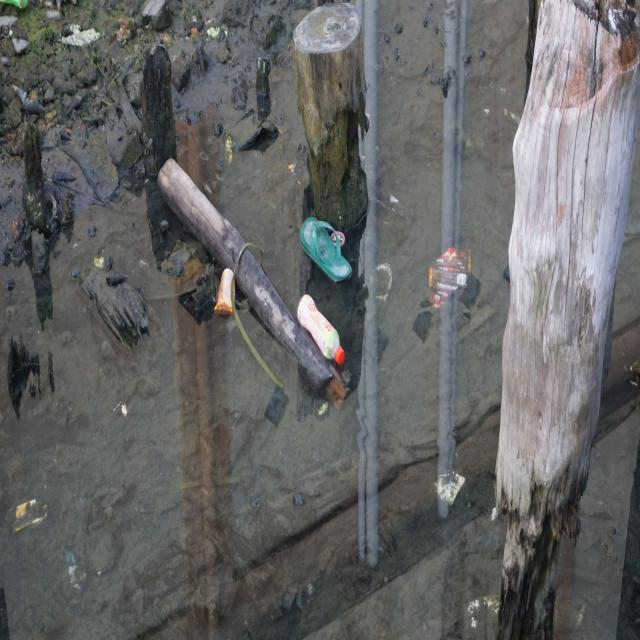Botol Plastik: (295, 288, 351, 373)
Bungkus Makanan: (429, 241, 478, 307)
Bungkus Minuman: (214, 265, 241, 321)
